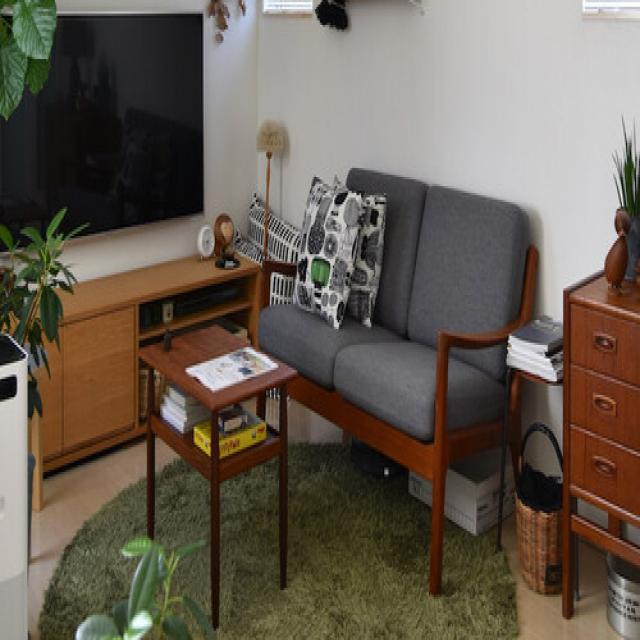vintage desk: (143, 323, 298, 620)
vintage sofa: (267, 164, 513, 460)
